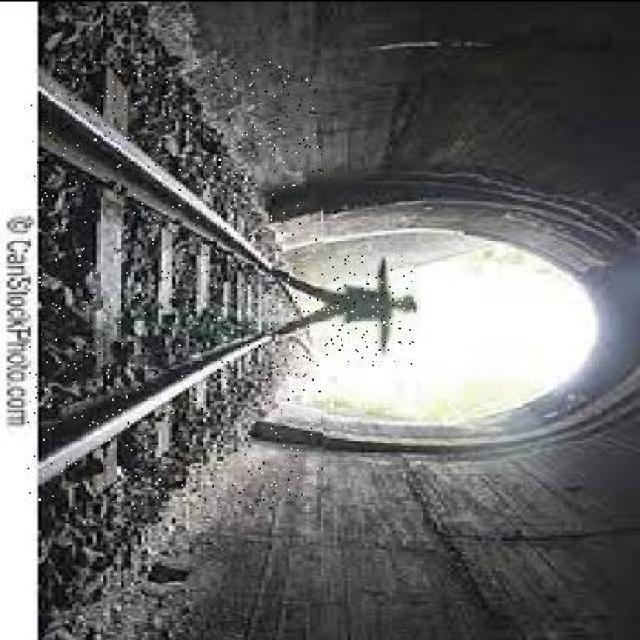danger: (272, 254, 414, 366)
rail: (28, 58, 323, 508)
